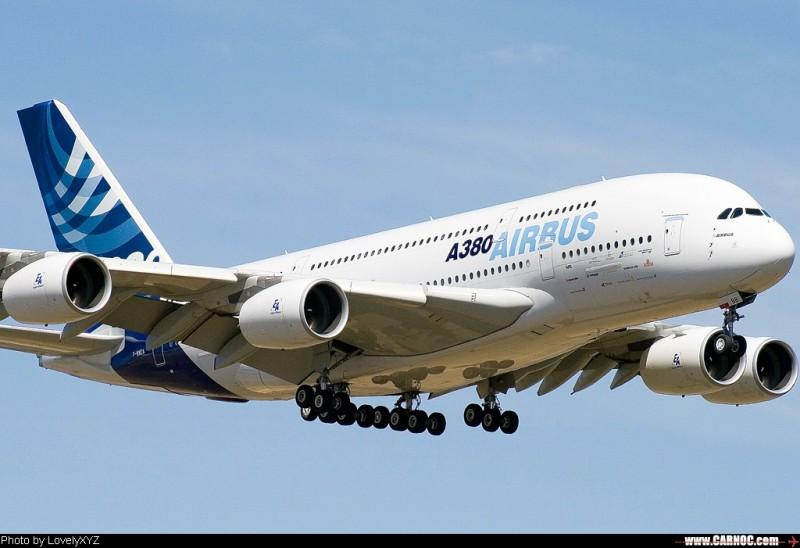airplane: (19, 110, 774, 429)
